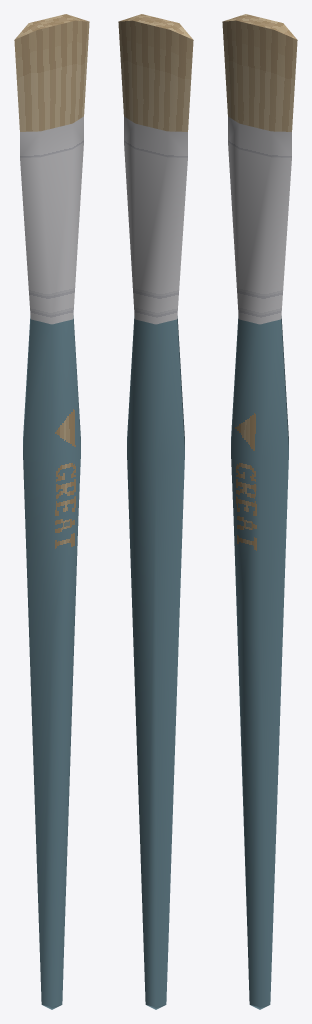
Rendered from 0430_Inkbrush.glb.
3 views of the same model, side by side, from view 1: azimuth 30°, elevation 25°; view 2: azimuth 150°, elevation 25°; view 3: azimuth 330°, elevation 25° (orthographic).
Parts seen in each view (by area): view 1: part_0; view 2: part_0; view 3: part_0.
Part boxes in pixels (left/top/right/bottom): part_0: left=14, top=14, right=89, bottom=1009; part_0: left=118, top=14, right=193, bottom=1009; part_0: left=222, top=14, right=297, bottom=1009.
Size of the model in its own units: 0.0175 by 0.2195 by 0.0117.
Materials: 1 (1 with a texture image).
